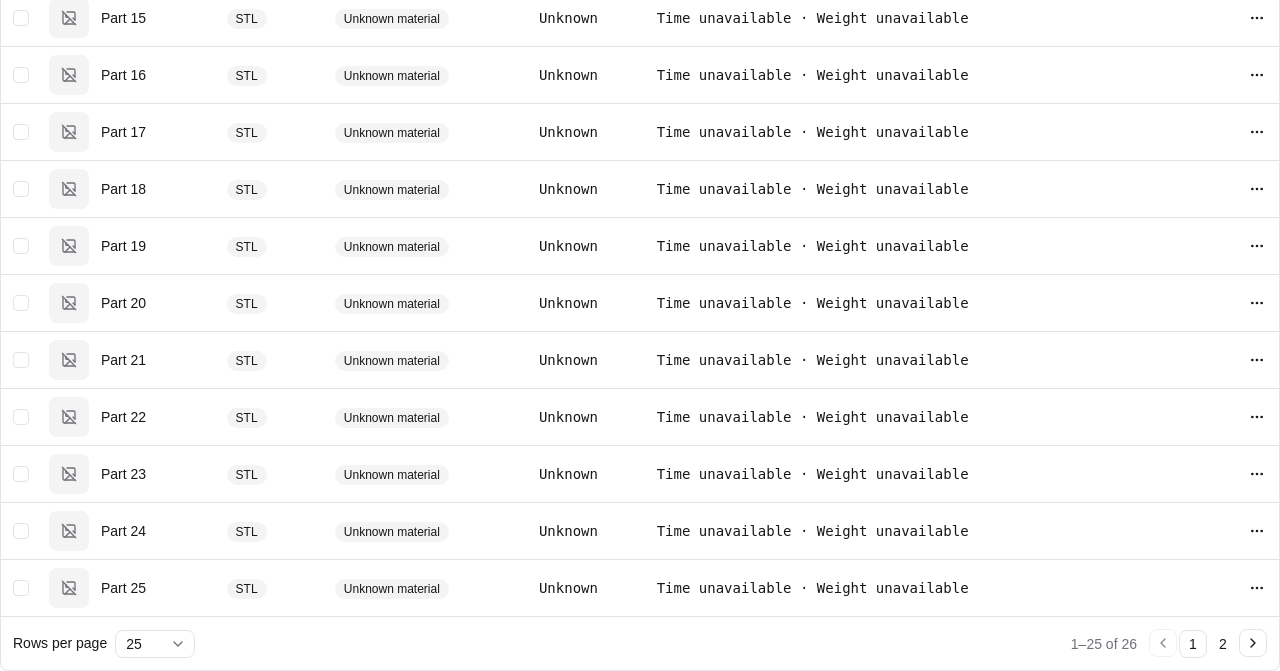
PartsPage › fetches valid server pages
(page scrolled)
expect the text "1–25 of 26" is shown: met, box x1=1071 y1=634 x2=1137 y2=654
expect the button named "Previous parts page" is disabled: met, box x1=1149 y1=629 x2=1177 y2=657
Click the button named "Next parts page". click: click(1253, 643)
box: x1=1239 y1=629 x2=1267 y2=657
(page scrolled)
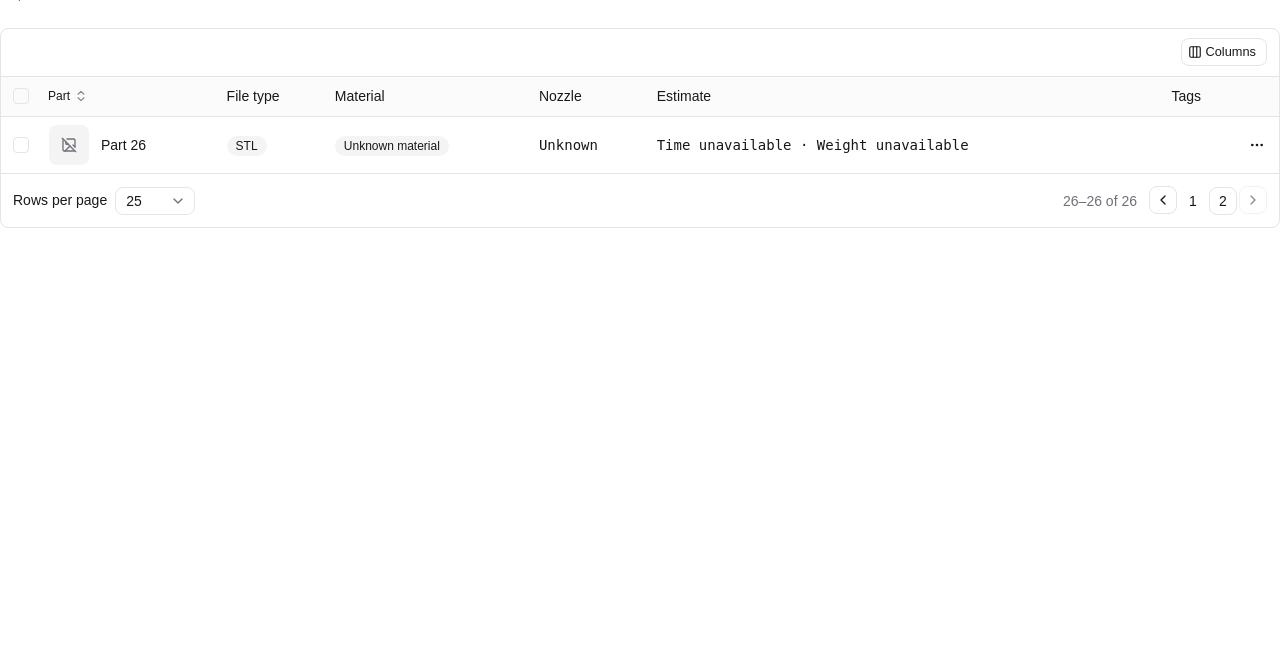
expect the link "Part 26" is shown: met, box x1=101 y1=135 x2=146 y2=155
expect the text "26–26 of 26" is shown: met, box x1=1063 y1=190 x2=1137 y2=210
expect the button named "Next parts page" is disabled: met, box x1=1239 y1=186 x2=1267 y2=214
